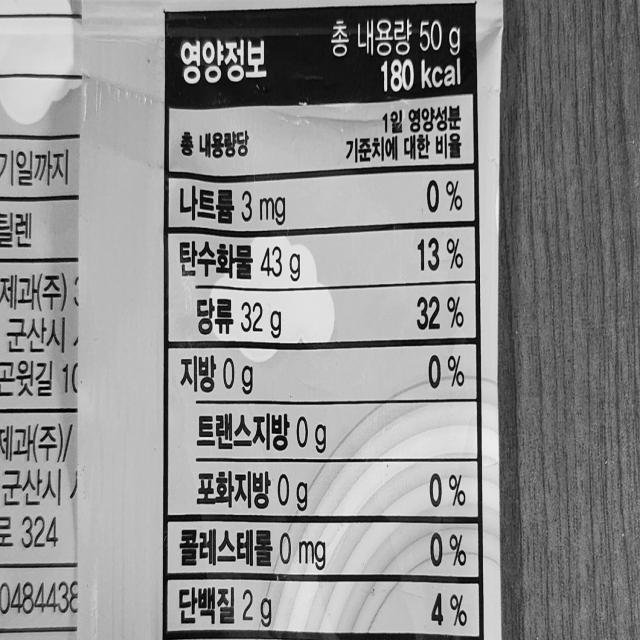Nutrition Label: (158, 0, 492, 640)
